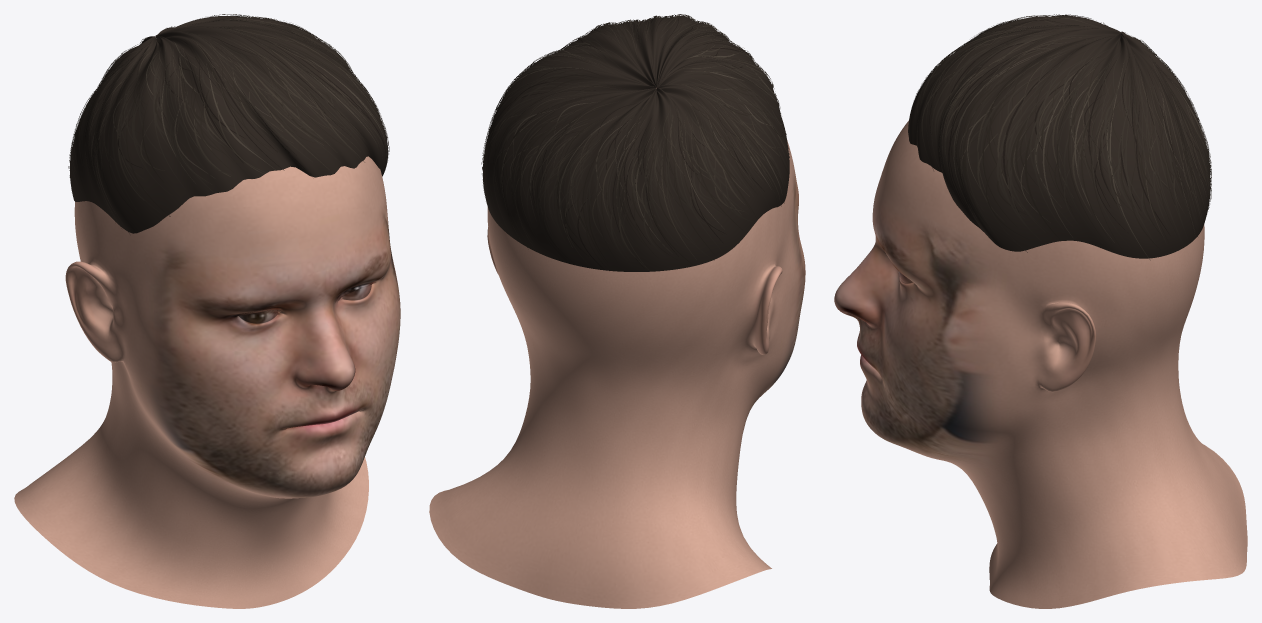
Rendered from ovtcharov.glb.
The picture shows the model from 3 angles, left to right: view 1: azimuth 30°, elevation 25°; view 2: azimuth 150°, elevation 25°; view 3: azimuth 270°, elevation 25°; orthographic projection. The views are drawn at different scales.
Visible parts, largest first — view 1: 奥恰洛夫 · 多角度拟合头模, 发型外层 · 渐短侧发与棕色上梳顶发, 碎发与发流; view 2: 奥恰洛夫 · 多角度拟合头模, 发型外层 · 渐短侧发与棕色上梳顶发, 碎发与发流; view 3: 奥恰洛夫 · 多角度拟合头模, 发型外层 · 渐短侧发与棕色上梳顶发, 碎发与发流.
Part boxes in pixels (left/top/right/bottom): 奥恰洛夫 · 多角度拟合头模: left=14, top=156, right=400, bottom=608; 发型外层 · 渐短侧发与棕色上梳顶发: left=70, top=16, right=388, bottom=233; 碎发与发流: left=68, top=14, right=389, bottom=233; 奥恰洛夫 · 多角度拟合头模: left=429, top=88, right=805, bottom=608; 发型外层 · 渐短侧发与棕色上梳顶发: left=482, top=16, right=789, bottom=271; 碎发与发流: left=481, top=14, right=789, bottom=270; 奥恰洛夫 · 多角度拟合头模: left=834, top=120, right=1247, bottom=608; 发型外层 · 渐短侧发与棕色上梳顶发: left=908, top=15, right=1210, bottom=258; 碎发与发流: left=909, top=14, right=1211, bottom=260.
Bounding box in the file's own units: 0.1908 × 0.3089 × 0.2116.
Materials: 7 (1 with a texture image).
